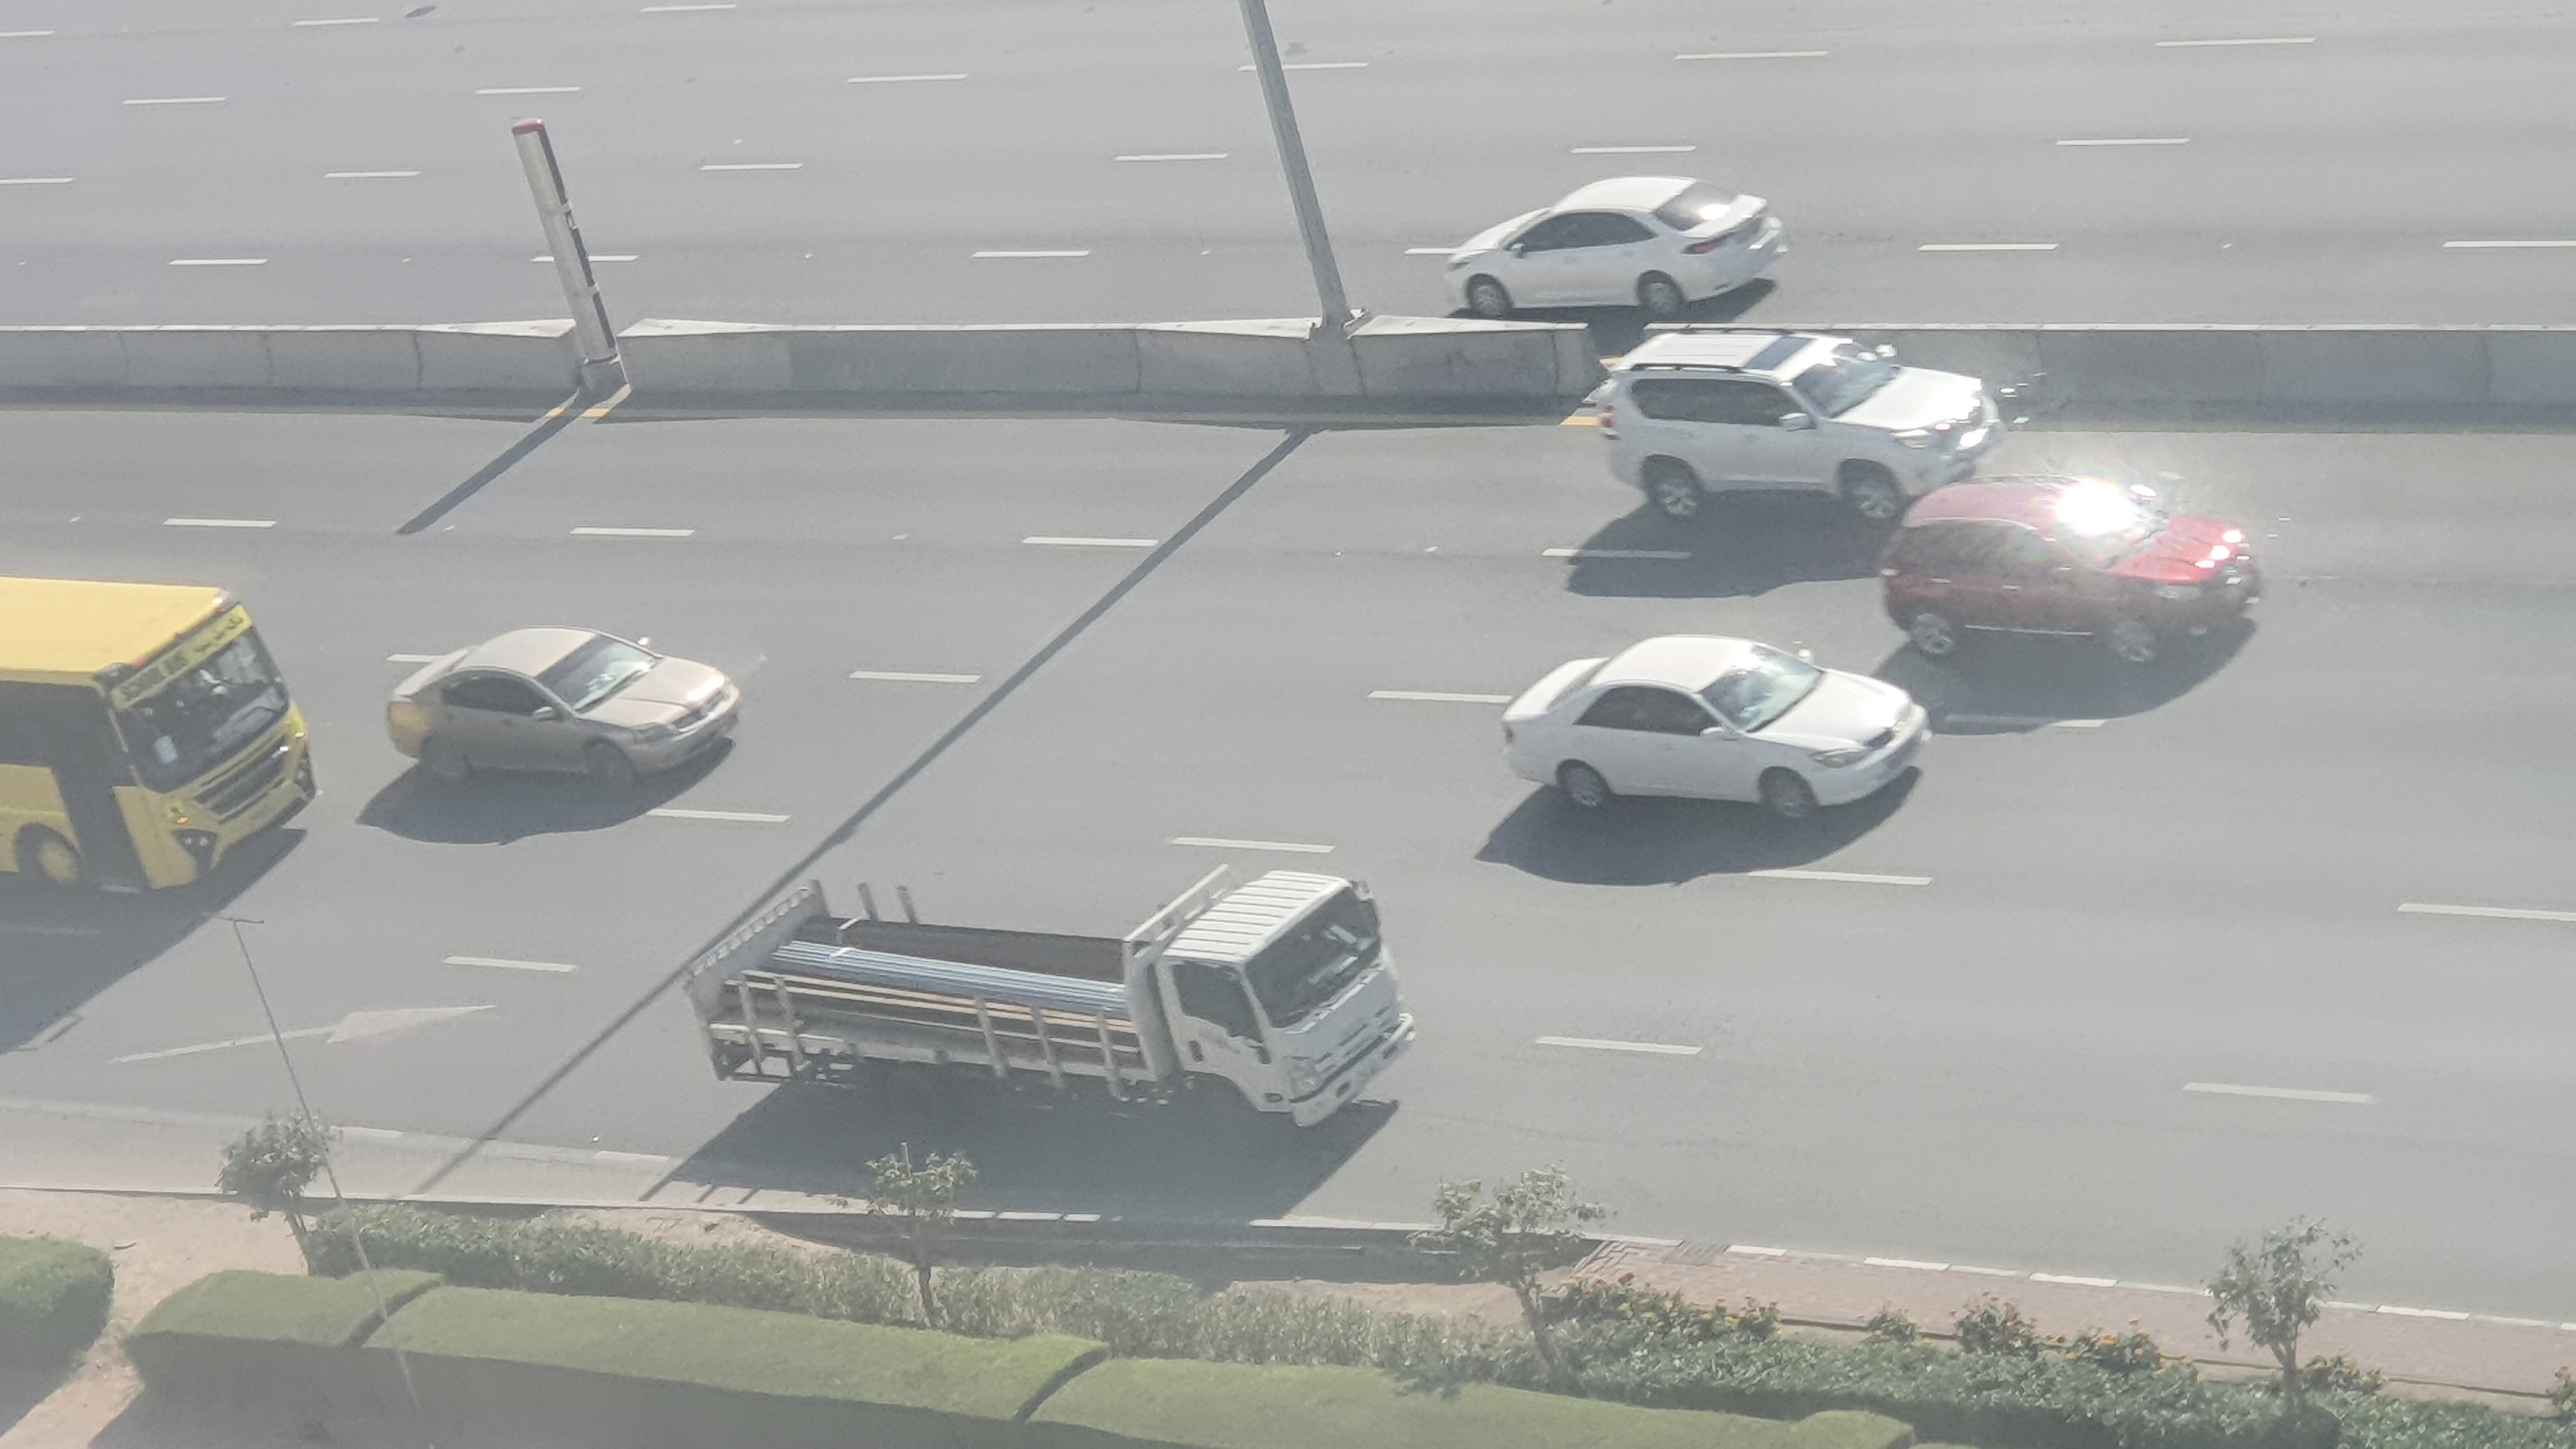NotSunroof: (1493, 628, 1930, 821), (1879, 478, 2266, 663), (384, 628, 738, 789)
Sunroof: (1606, 322, 2001, 511)
